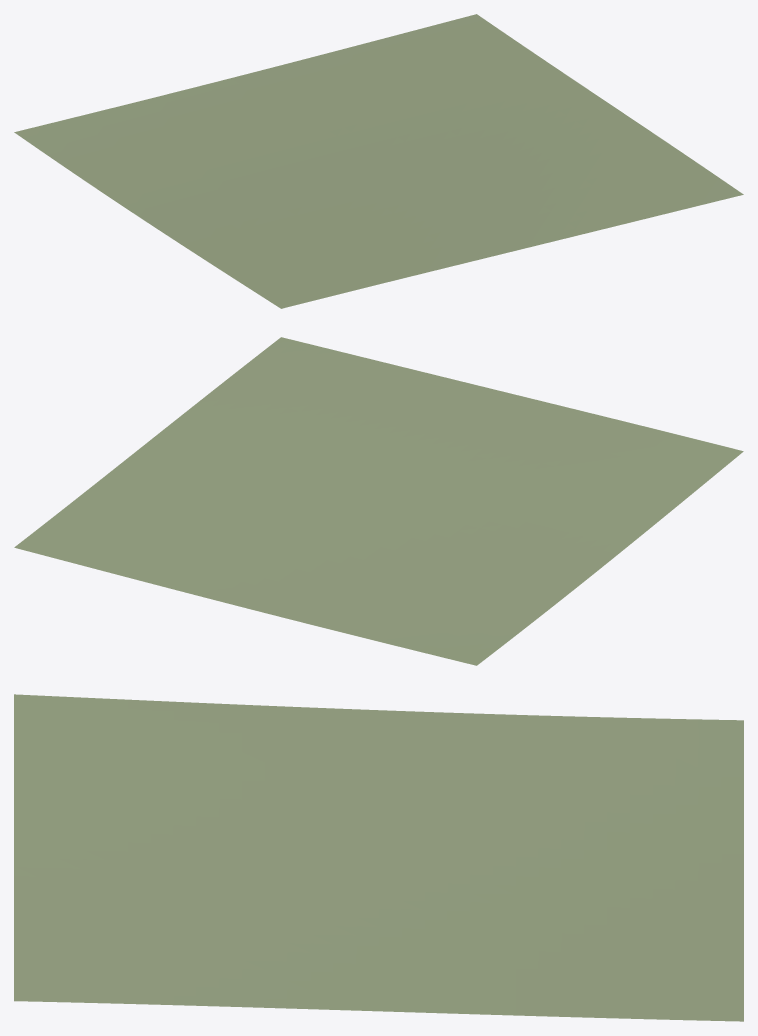
Rendered from expanse-7-20.glb.
3 renders of one model, top to bottom at view 1: azimuth 30°, elevation 25°; view 2: azimuth 150°, elevation 25°; view 3: azimuth 270°, elevation 25°, orthographic. The views are drawn at different scales.
Visible parts, largest first — view 1: expanse-7-20; view 2: expanse-7-20; view 3: expanse-7-20.
Part boxes in pixels (x1=…): expanse-7-20: x1=14, y1=14, x2=743, y2=308; expanse-7-20: x1=14, y1=337, x2=743, y2=665; expanse-7-20: x1=14, y1=694, x2=743, y2=1021.
Bounding box in the file's own units: 256 × 10.69 × 256.
